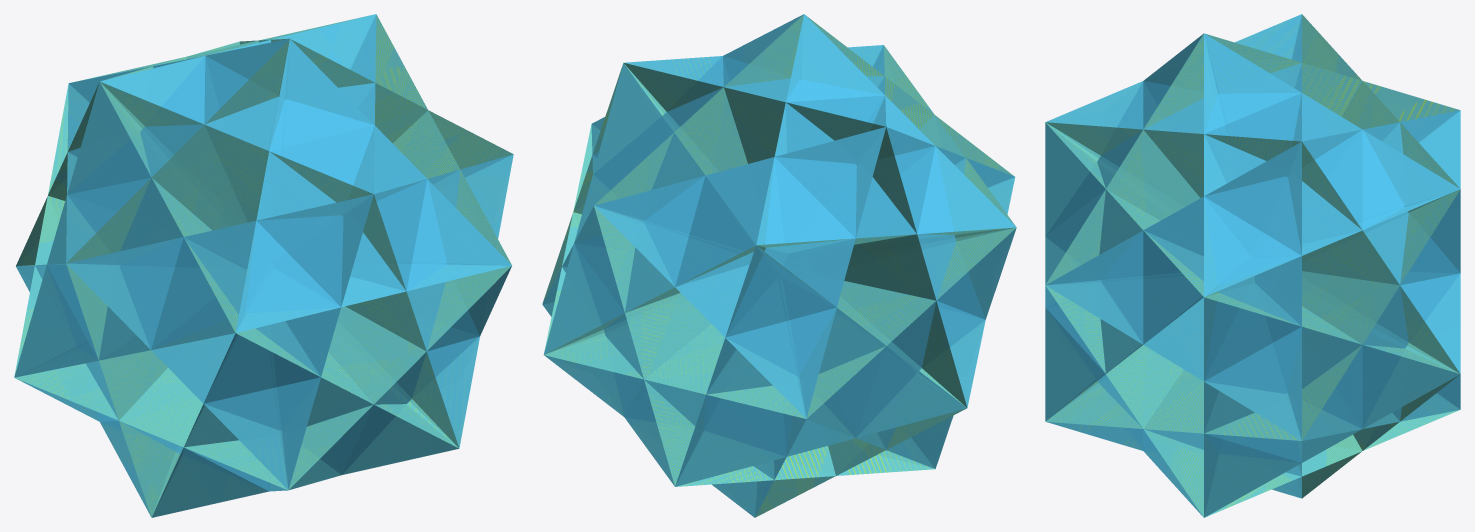
File: 25_Dodekexcavated_Sidtid.obj
The picture shows the model from 3 angles, left to right: view 1: azimuth 30°, elevation 25°; view 2: azimuth 150°, elevation 25°; view 3: azimuth 270°, elevation 25°; orthographic projection. The views are drawn at different scales.
Size of the model in its own units: 1.62 by 1.7 by 1.38.
